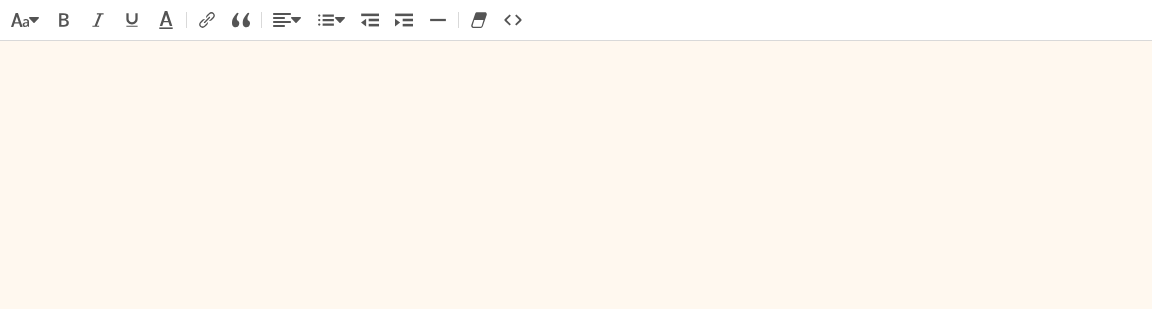
Test: dropdown behaviour › closes font size dropdown after selecting an option
Click the button titled "Font size": (25, 20) [6,6,44,34]
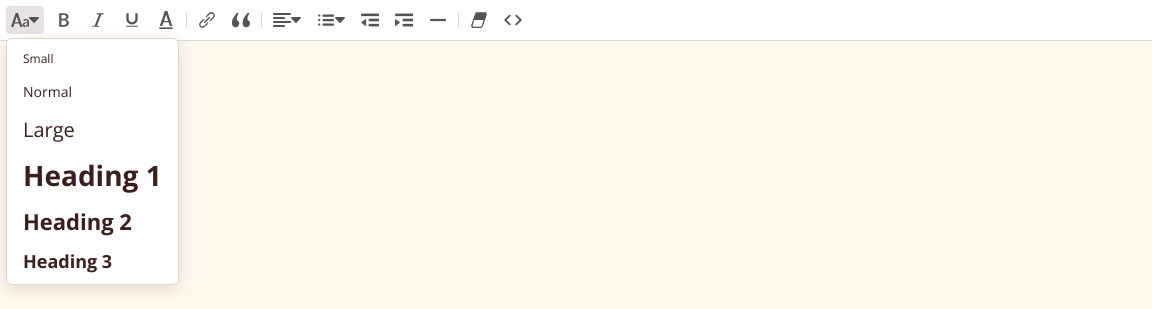
Click the button with class "editor-toolbar__dropdown-item" showing "Small": (92, 59) [7,43,178,75]
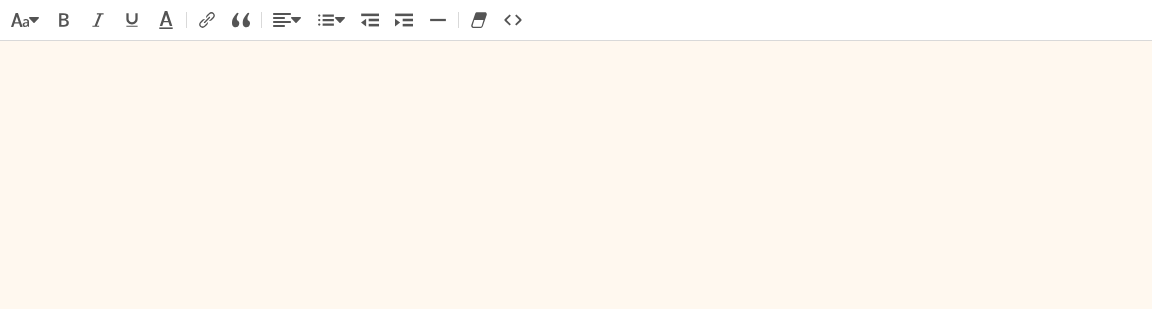
Now the element with class "editor-toolbar__dropdown" is gone
